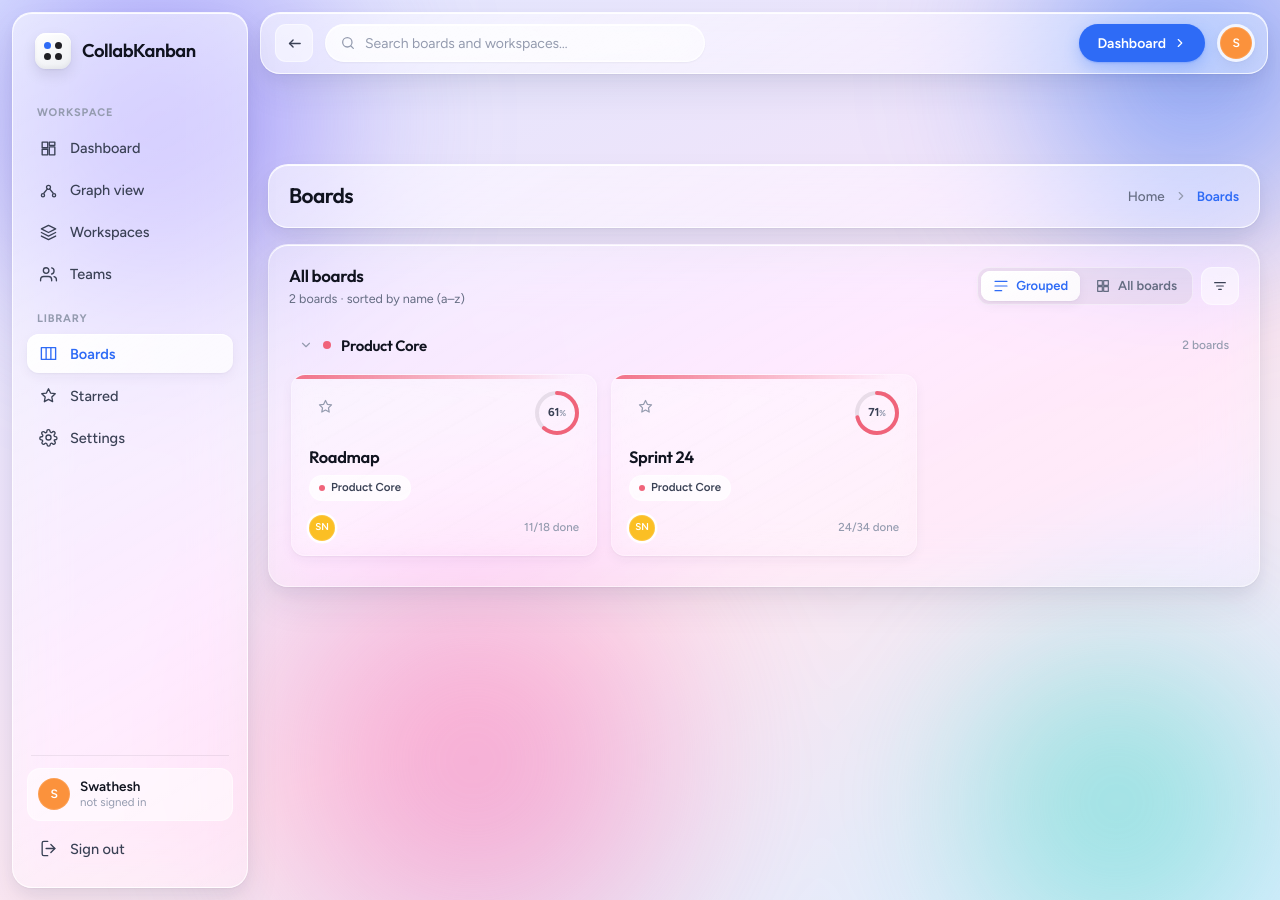
Test case: BoardsPage › reorders the grid when the sort changes
Expected: the heading "Sprint 24" is shown, [629,446,694,467]
Click the button named "Sort boards": [1220, 286] box [1201,267,1239,305]
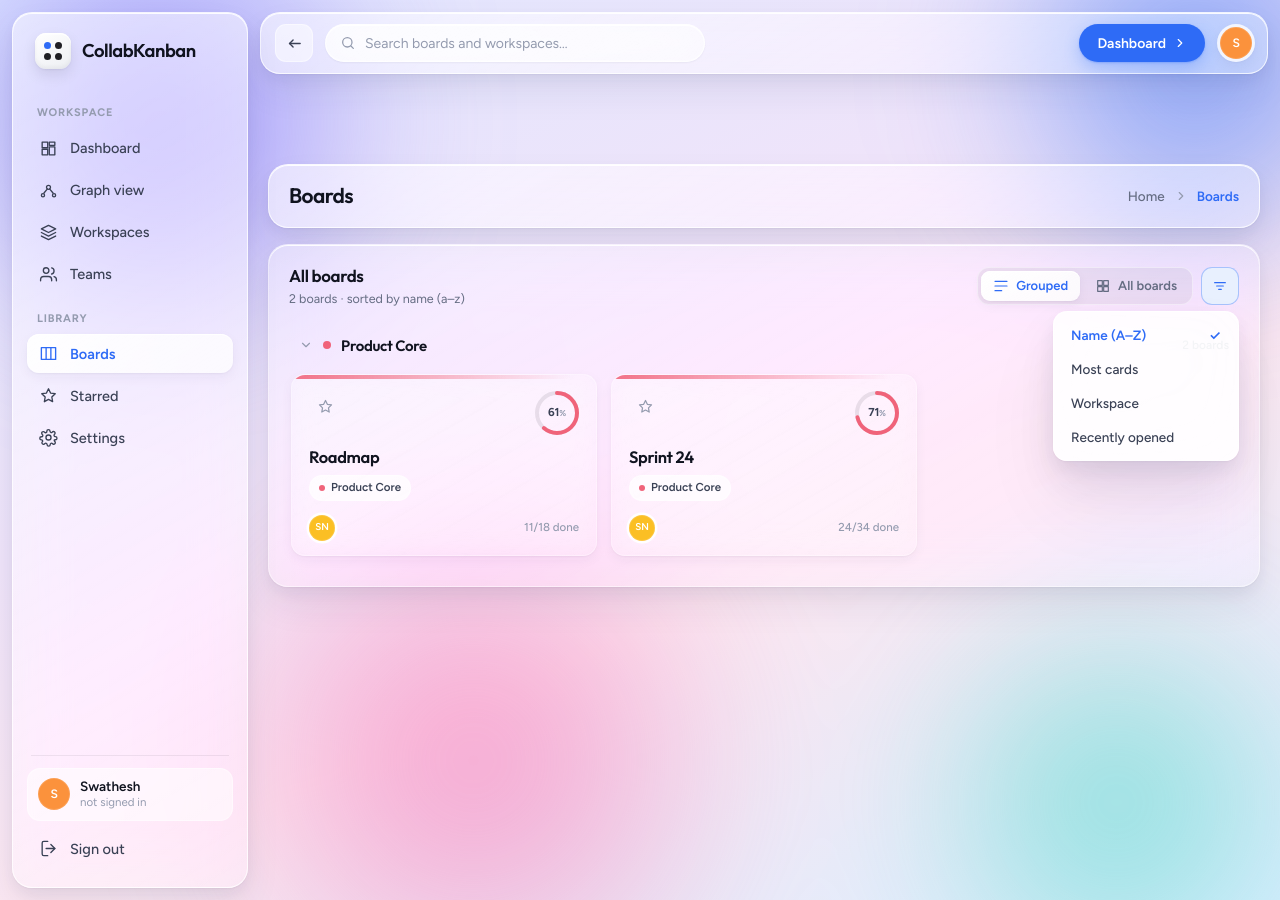
Click the menu item "Most cards": [1146, 369] box [1060,352,1232,386]
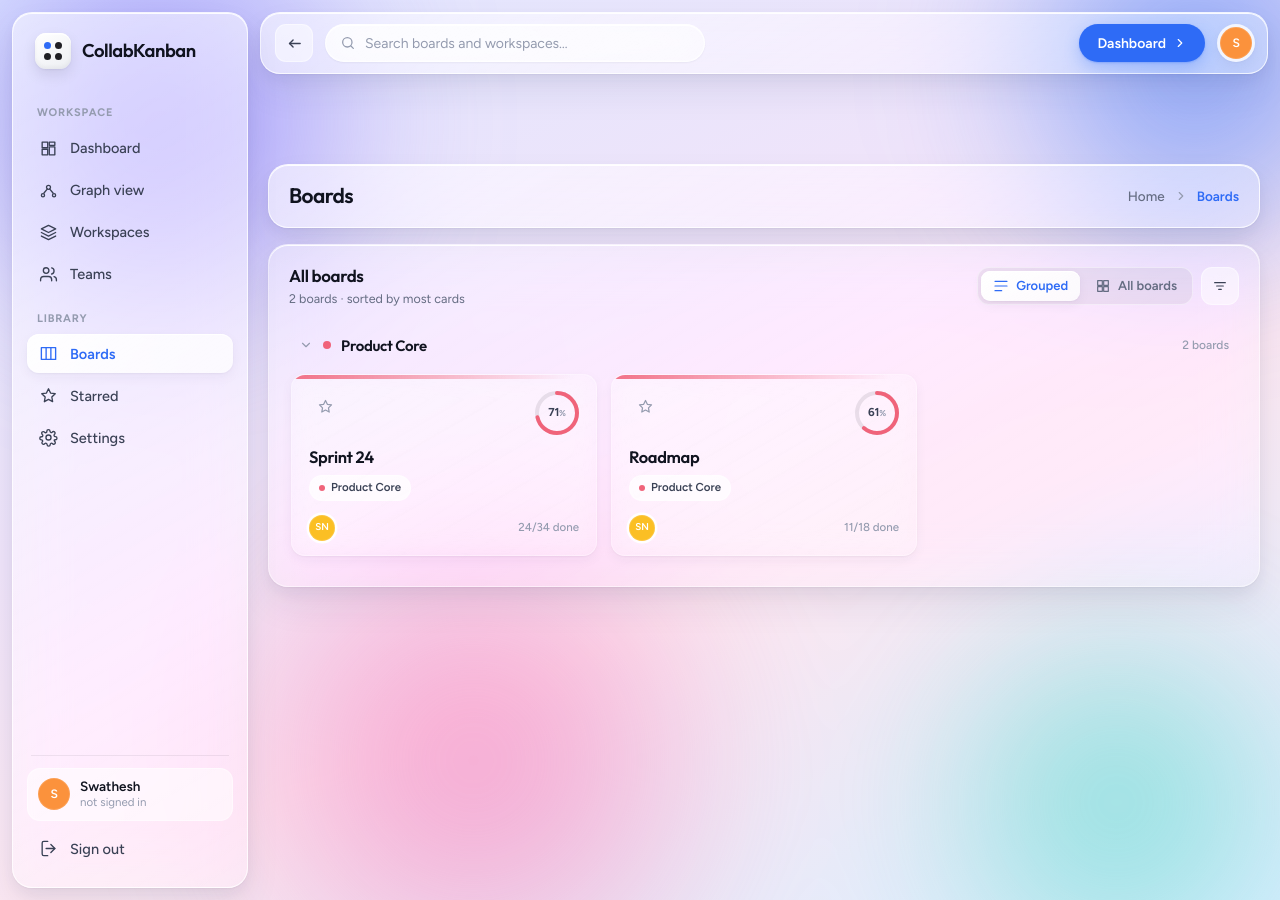
Expected: the text "2 boards · sorted by most cards" is shown, [289,290,465,309]
